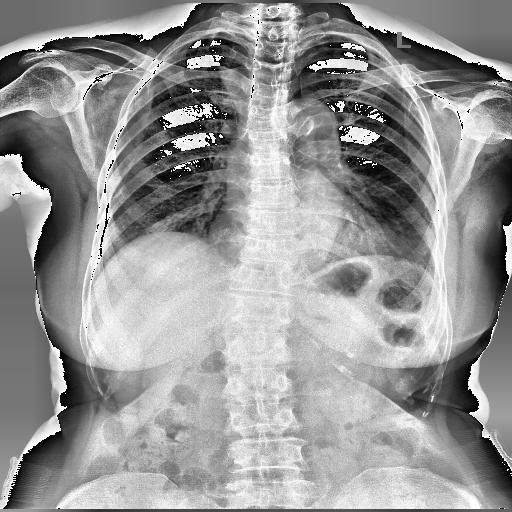0- Aortic enlargement: (280, 99, 340, 166), (272, 99, 340, 155), (291, 97, 339, 151)
3- Cardiomegaly: (204, 212, 398, 262), (208, 214, 396, 262)
